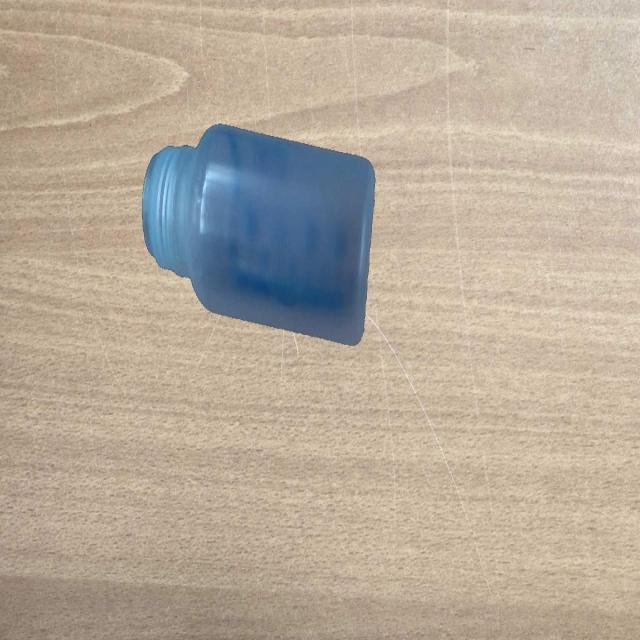bottle: (140, 119, 376, 348)
